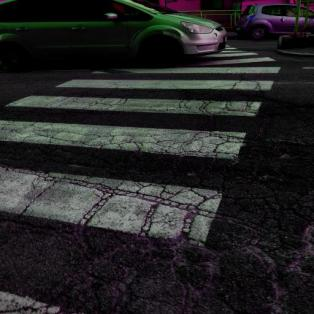Paso de Cebra: (3, 76, 275, 125)
